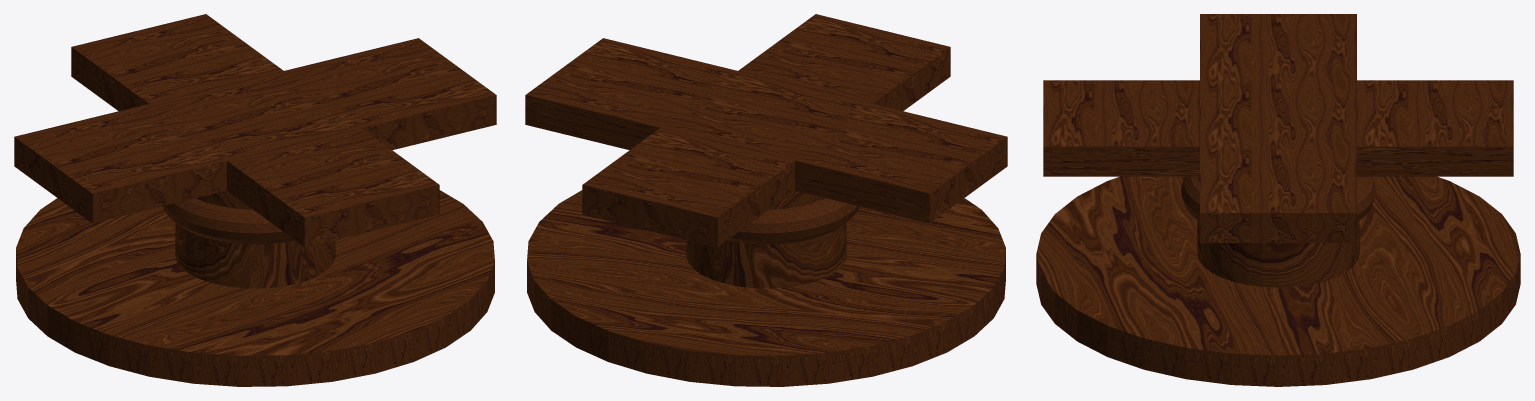
The model's file is cross.fbx.
3 views of the same model, side by side, from view 1: azimuth 30°, elevation 25°; view 2: azimuth 150°, elevation 25°; view 3: azimuth 270°, elevation 25° (orthographic).
Parts seen in each view (by area): view 1: Cross; view 2: Cross; view 3: Cross.
Boxes of the visible parts, bbox=[...] form: Cross: bbox=[14, 14, 496, 386]; Cross: bbox=[525, 14, 1007, 386]; Cross: bbox=[1036, 14, 1520, 386].
Bounding box in the file's own units: 128 × 49.8 × 128.
